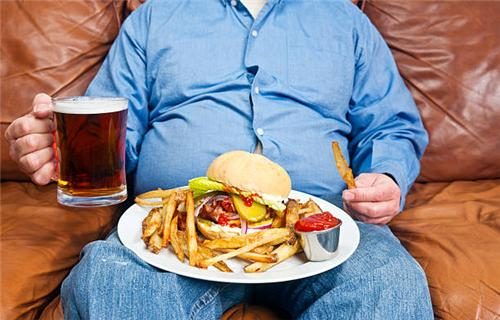alcohol: (51, 94, 131, 206)
